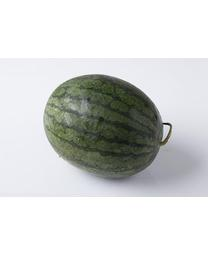watermelon: (43, 74, 164, 183)
